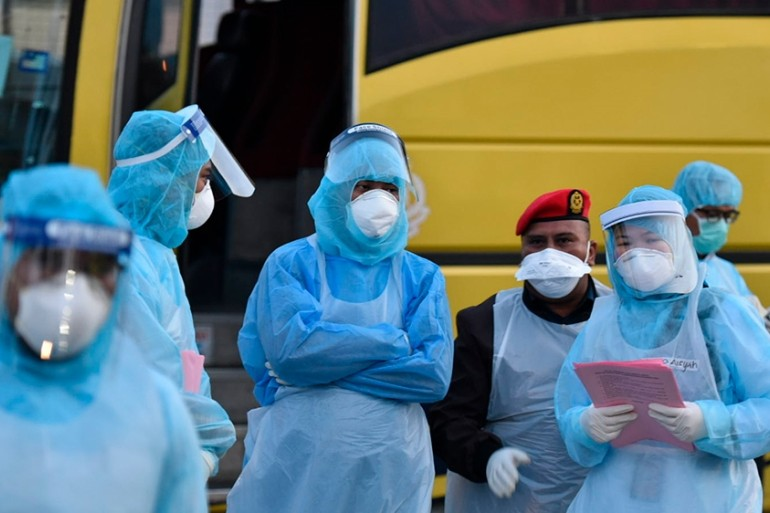Coverall: (230, 122, 456, 513), (554, 182, 770, 513), (1, 163, 205, 513), (107, 105, 236, 479)
Face_Shield: (2, 211, 135, 409), (597, 199, 701, 299), (171, 100, 259, 202), (320, 121, 415, 187)
Gloves: (644, 395, 706, 448), (482, 445, 534, 501), (578, 403, 637, 442)
with_mask: (19, 252, 112, 357), (520, 228, 587, 304), (611, 232, 675, 295), (349, 179, 399, 240), (185, 158, 216, 232), (693, 207, 734, 256)
